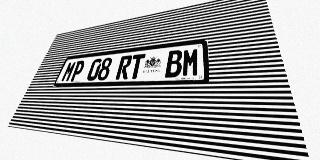0: (86, 58, 103, 81)
8: (96, 57, 114, 80)
B: (165, 50, 183, 78)
M: (182, 48, 199, 77), (60, 61, 77, 82)
P: (69, 60, 86, 82)
R: (115, 55, 133, 80)
T: (128, 54, 146, 79)
